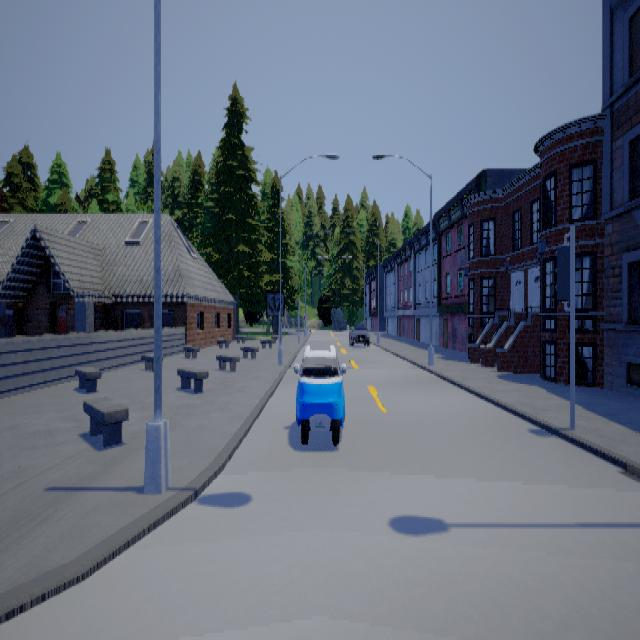vehicle: (294, 342, 348, 445), (350, 322, 374, 345)
